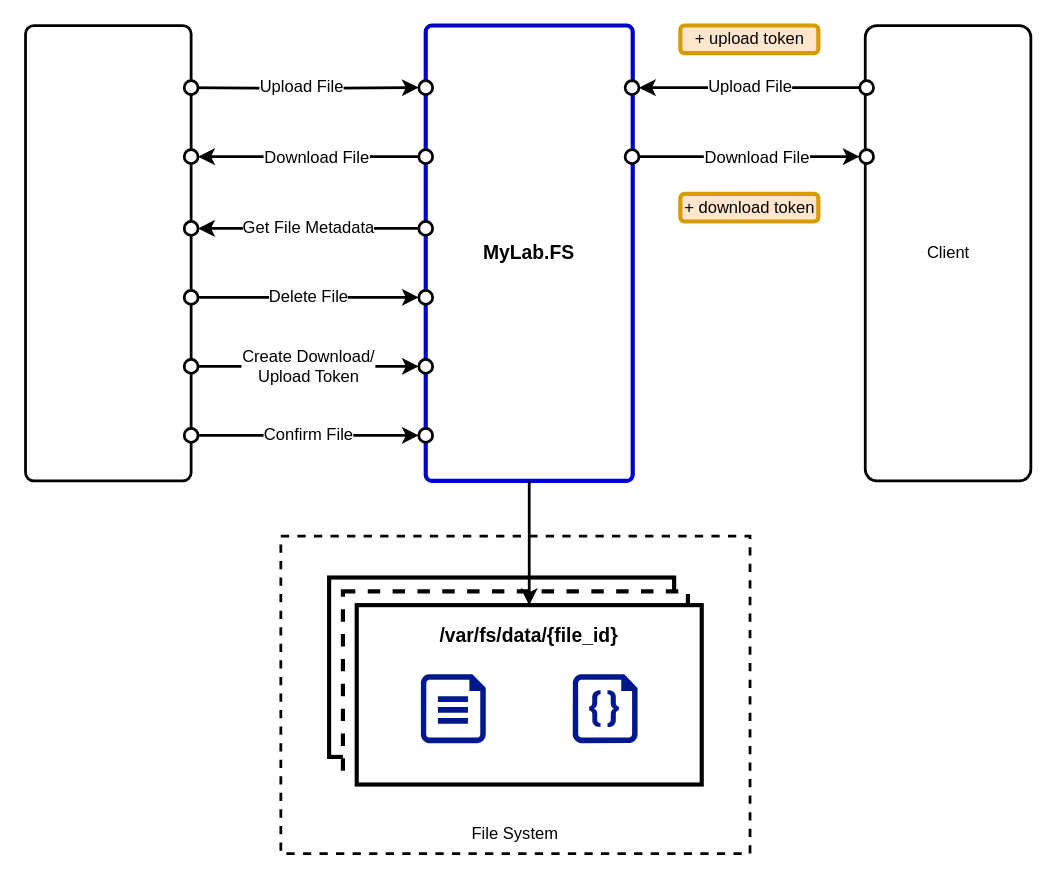
Image size: 1056x879. Some labels were removed from this diagram. The shapes that lost their labels are listed below. From the top down, each one's centre as x and y in pixels, then its label:
At point (107, 252): "Server App".
At point (452, 707): "cointent.bin".
At point (604, 707): "metadata.json".
